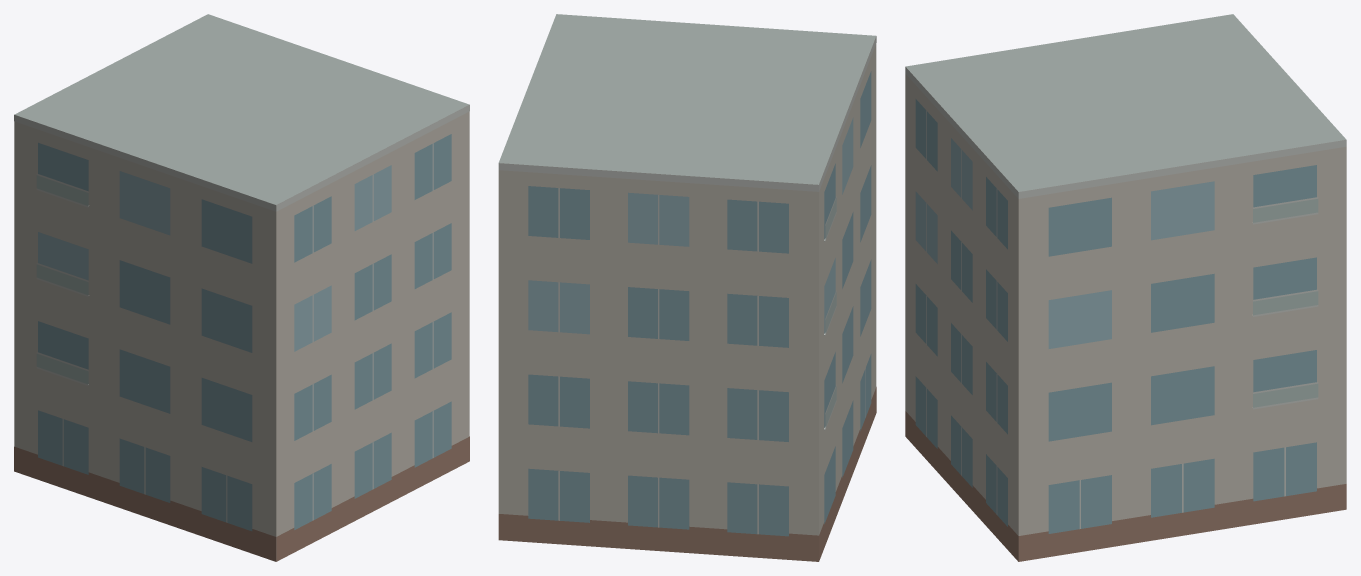
The model's file is survey-upis-32825186.glb.
3 renders of one model, left to right at view 1: azimuth 30°, elevation 25°; view 2: azimuth 150°, elevation 25°; view 3: azimuth 270°, elevation 25°, orthographic. The views are drawn at different scales.
Visible parts, largest first — view 1: survey-upis-32825186.tmp; view 2: survey-upis-32825186.tmp; view 3: survey-upis-32825186.tmp.
Part boxes in pixels (left/top/right/bottom): survey-upis-32825186.tmp: left=14, top=14, right=469, bottom=561; survey-upis-32825186.tmp: left=498, top=14, right=876, bottom=561; survey-upis-32825186.tmp: left=905, top=14, right=1346, bottom=561.
Size of the model in its own units: 13.43 by 13 by 14.07.
